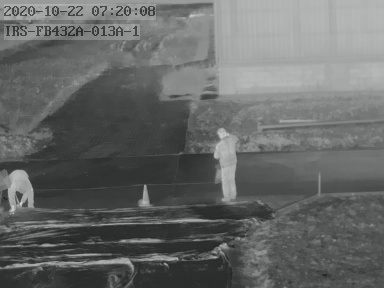person: (213, 126, 243, 202), (3, 165, 37, 215)
